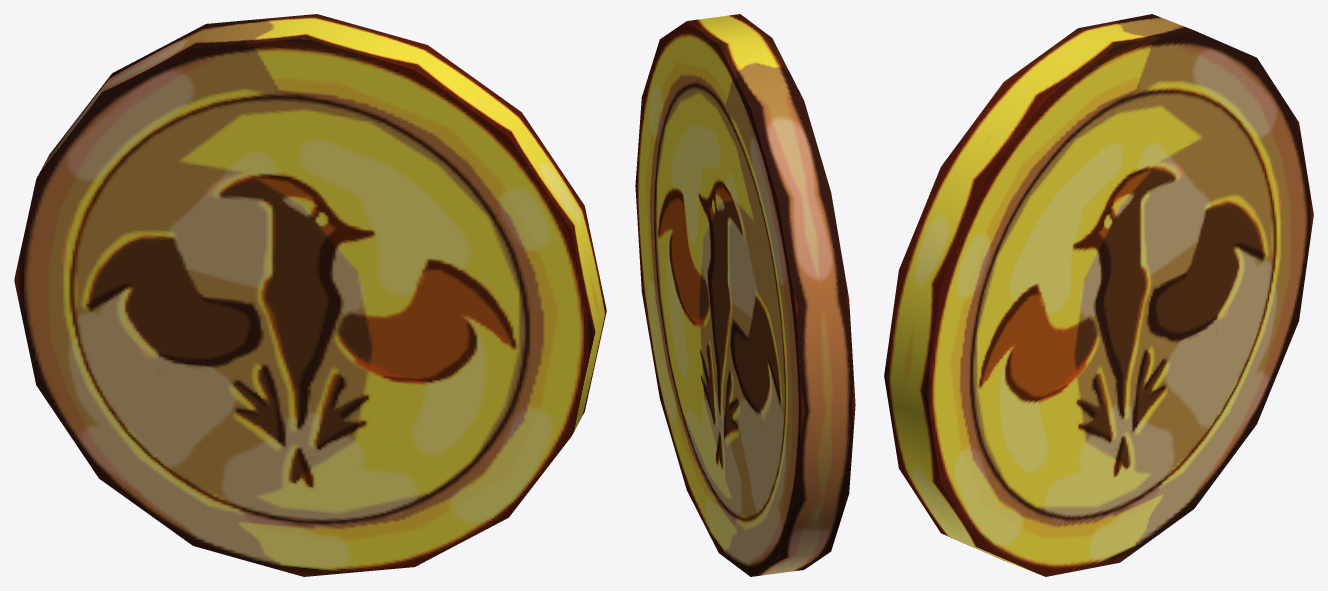
The model's file is moeda_animada.fbx.
3 views of the same model, side by side, from view 1: azimuth 30°, elevation 25°; view 2: azimuth 150°, elevation 25°; view 3: azimuth 270°, elevation 25° (orthographic). The views are drawn at different scales.
Parts seen in each view (by area): view 1: moeda; view 2: moeda; view 3: moeda.
Boxes of the visible parts, x1,y1,x2,y2 form: moeda: (14,14,606,576); moeda: (635,14,855,576); moeda: (884,14,1313,576).
Size of the model in its own units: 161 by 200 by 150.
